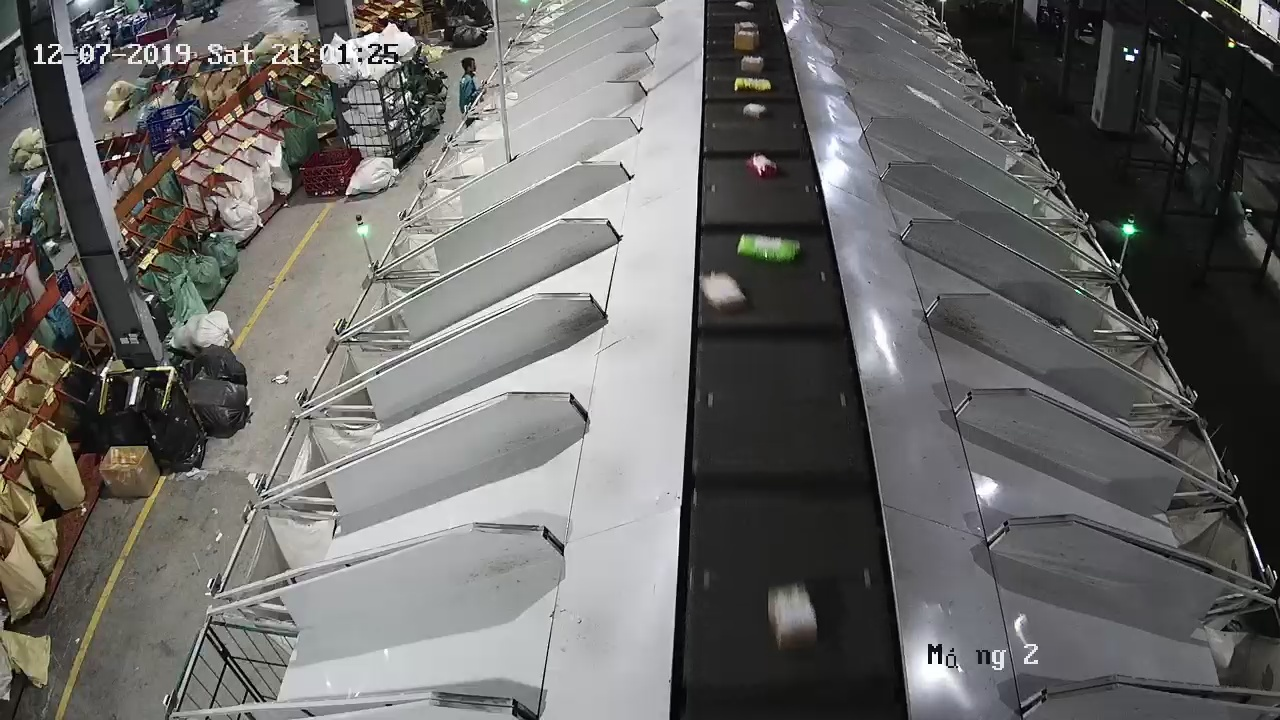parcel: (699, 271, 747, 313)
